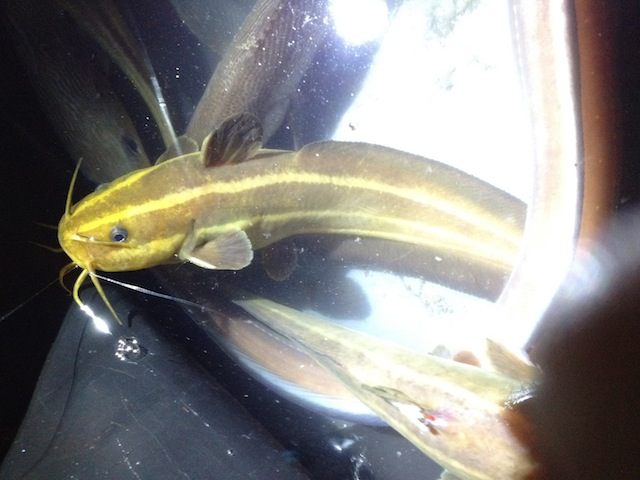gonzui: (34, 122, 530, 286)
